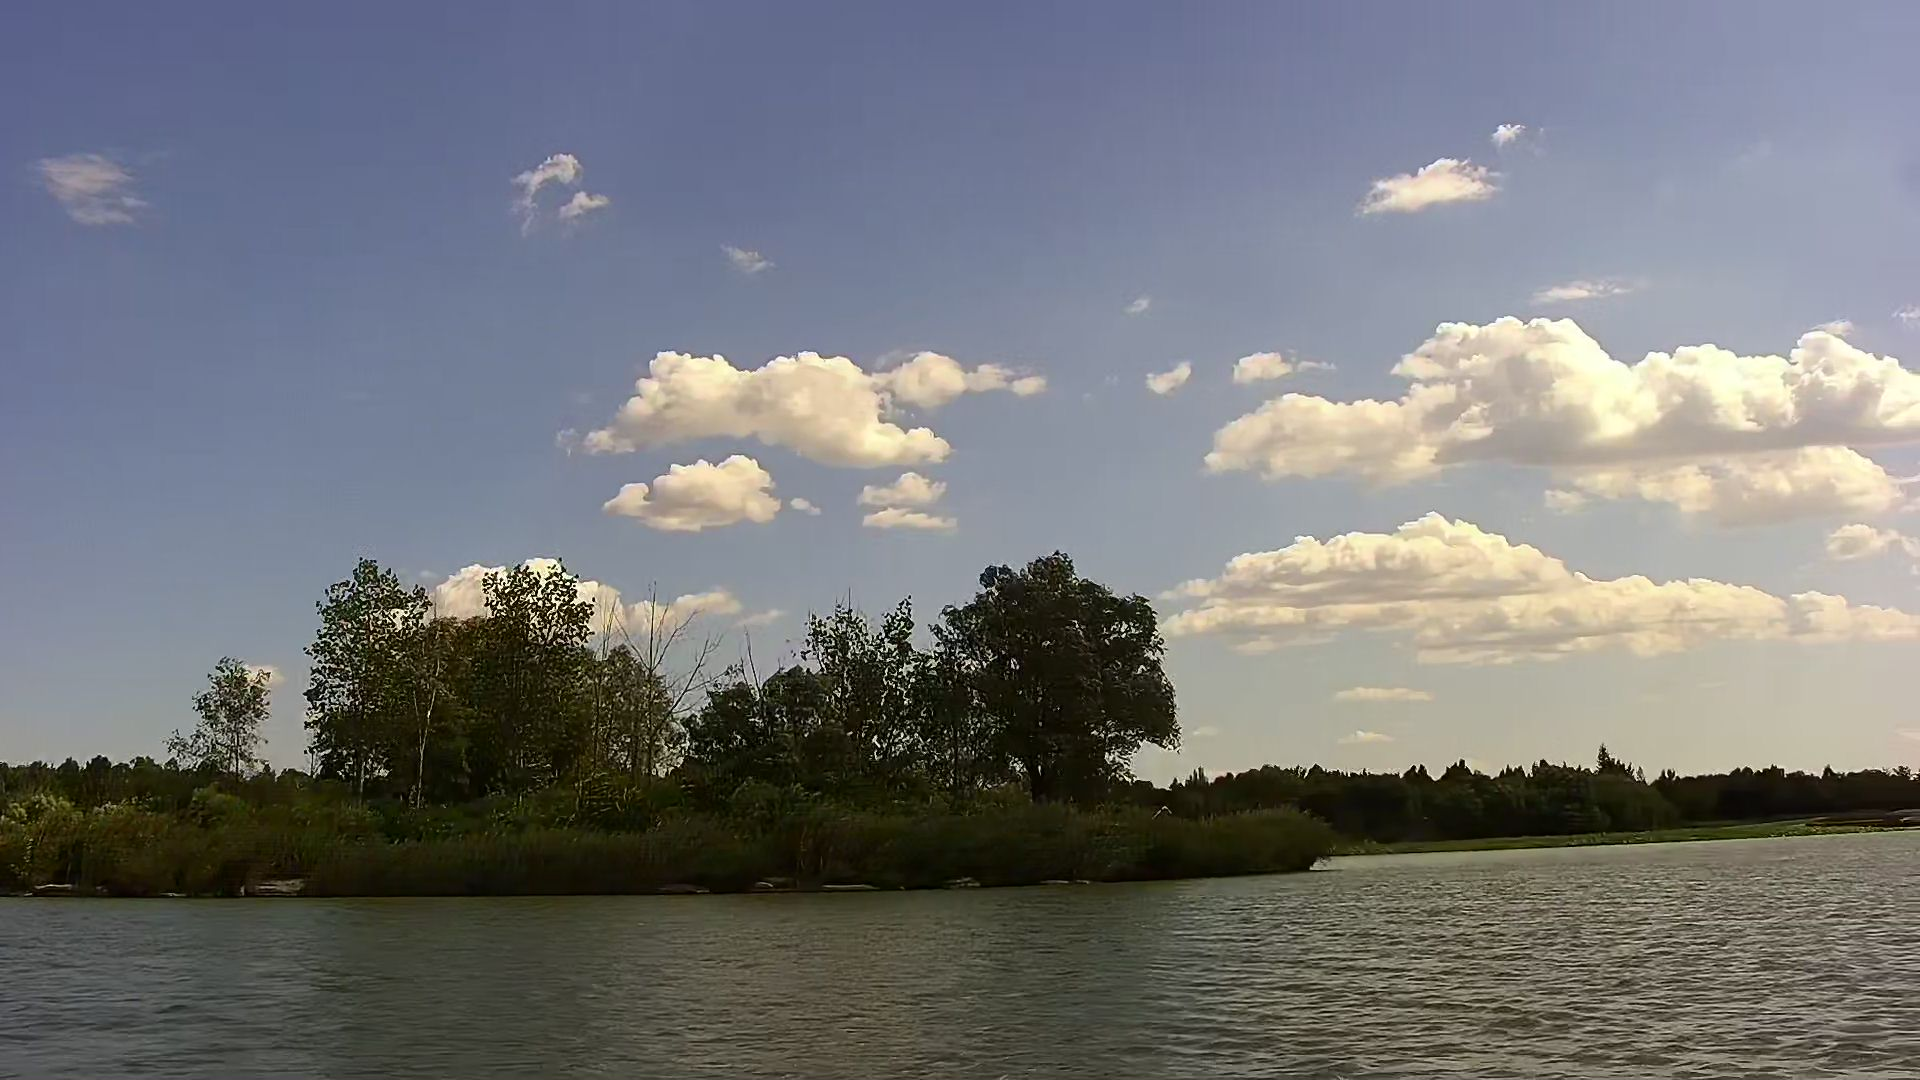rock: (251, 877, 295, 893)
